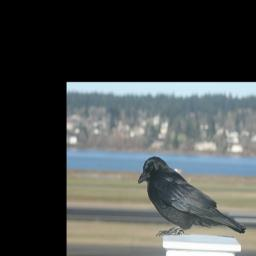Crow: (137, 155, 247, 236)
